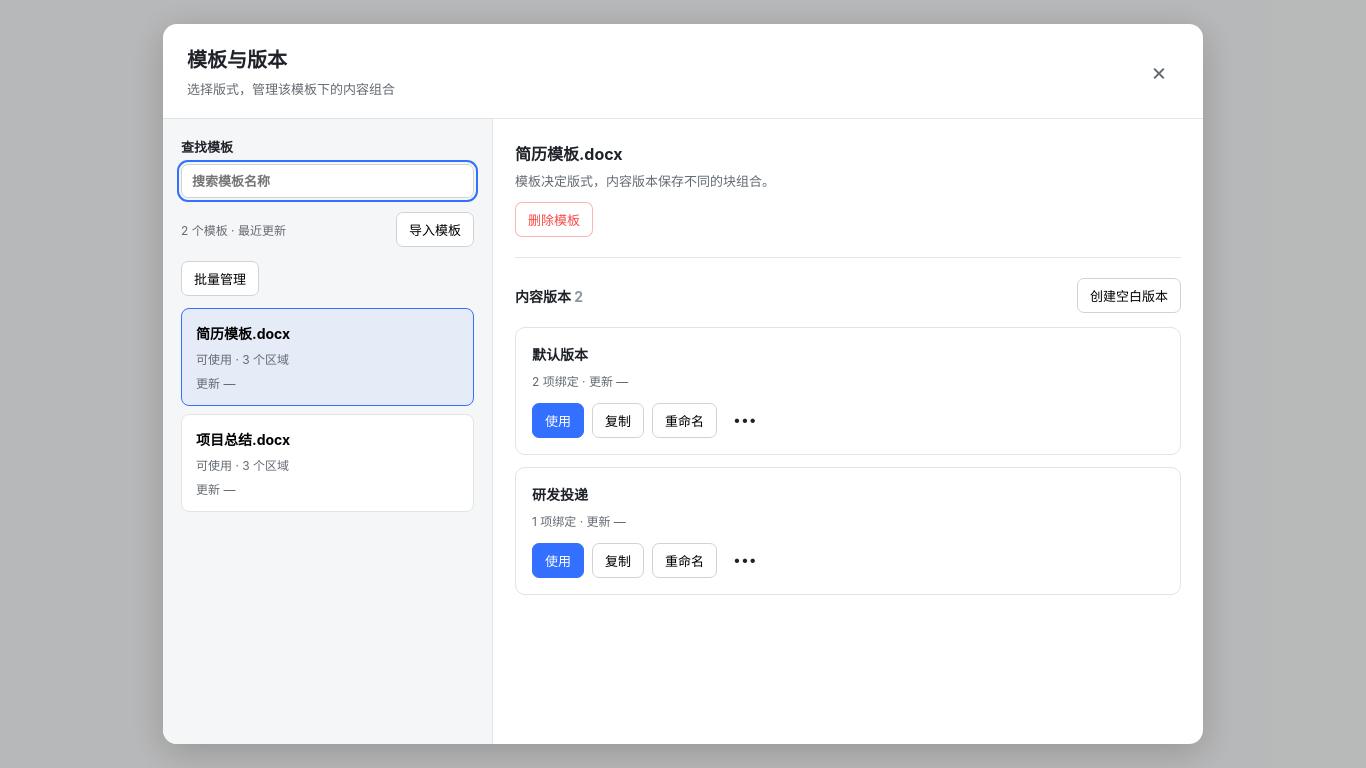
Test case: 模板与版本管理 › 创建失败保留输入并内联反馈，不误报成功
Click the button "创建空白版本".
click(1129, 296)  # box 1077,278 -> 1181,313
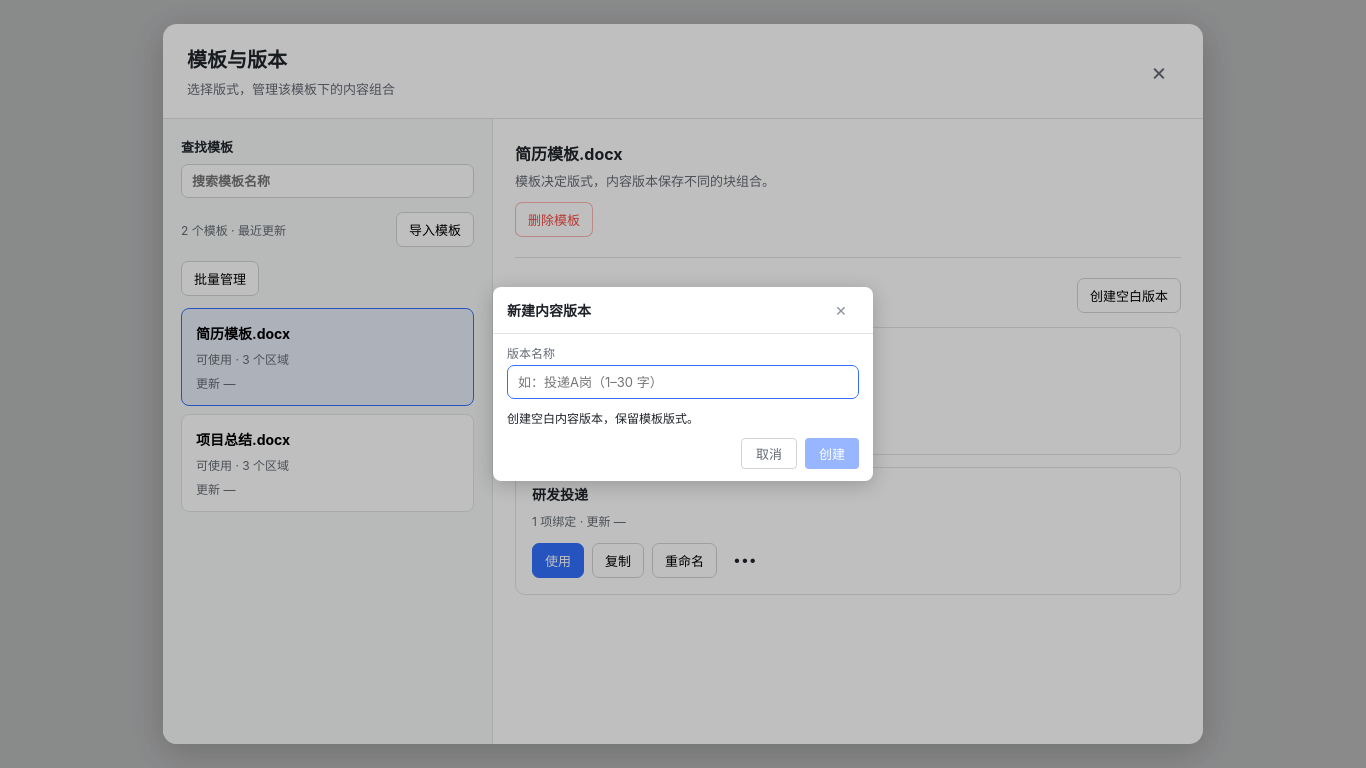
Type "默认版本" into the field with test id "version-name-input".
click(683, 382); type("默认版本")  # box 507,365 -> 859,399
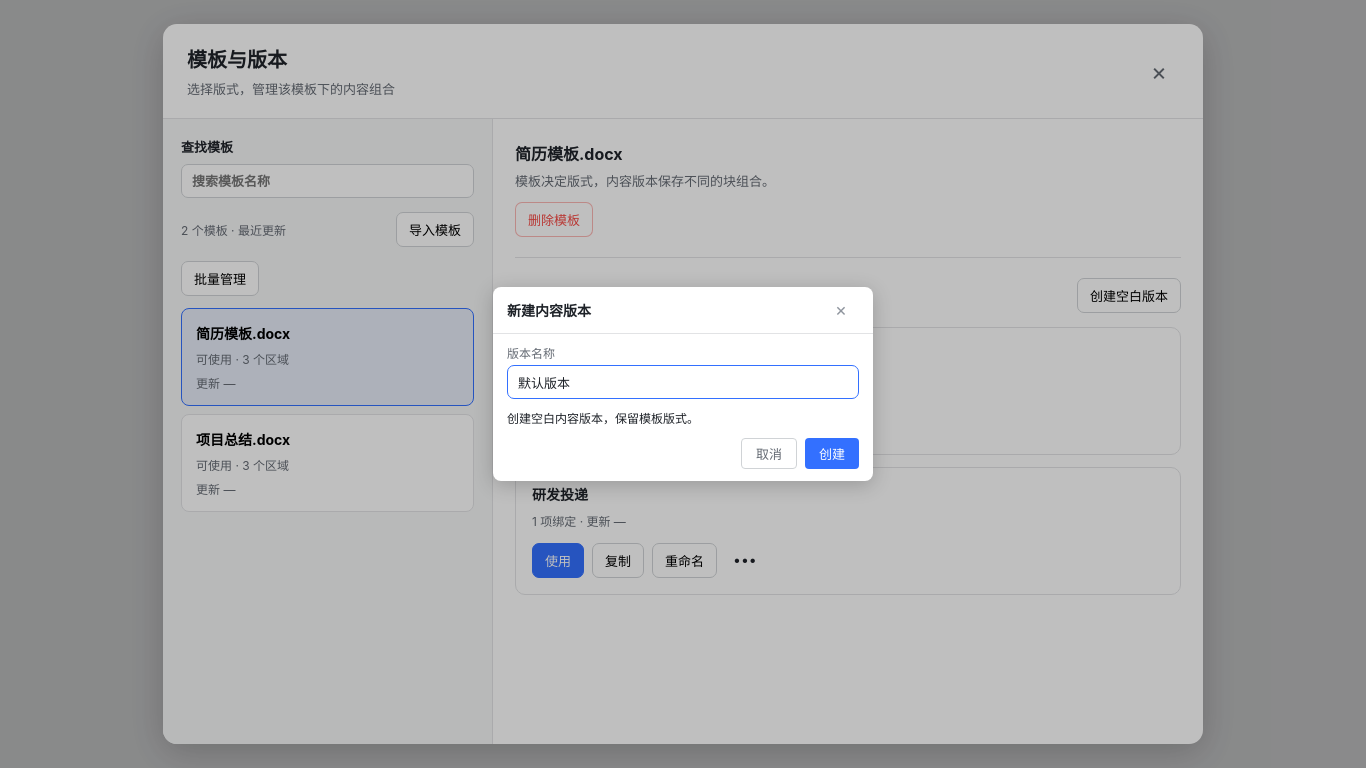
Submit the form, box 493,287 -> 873,481
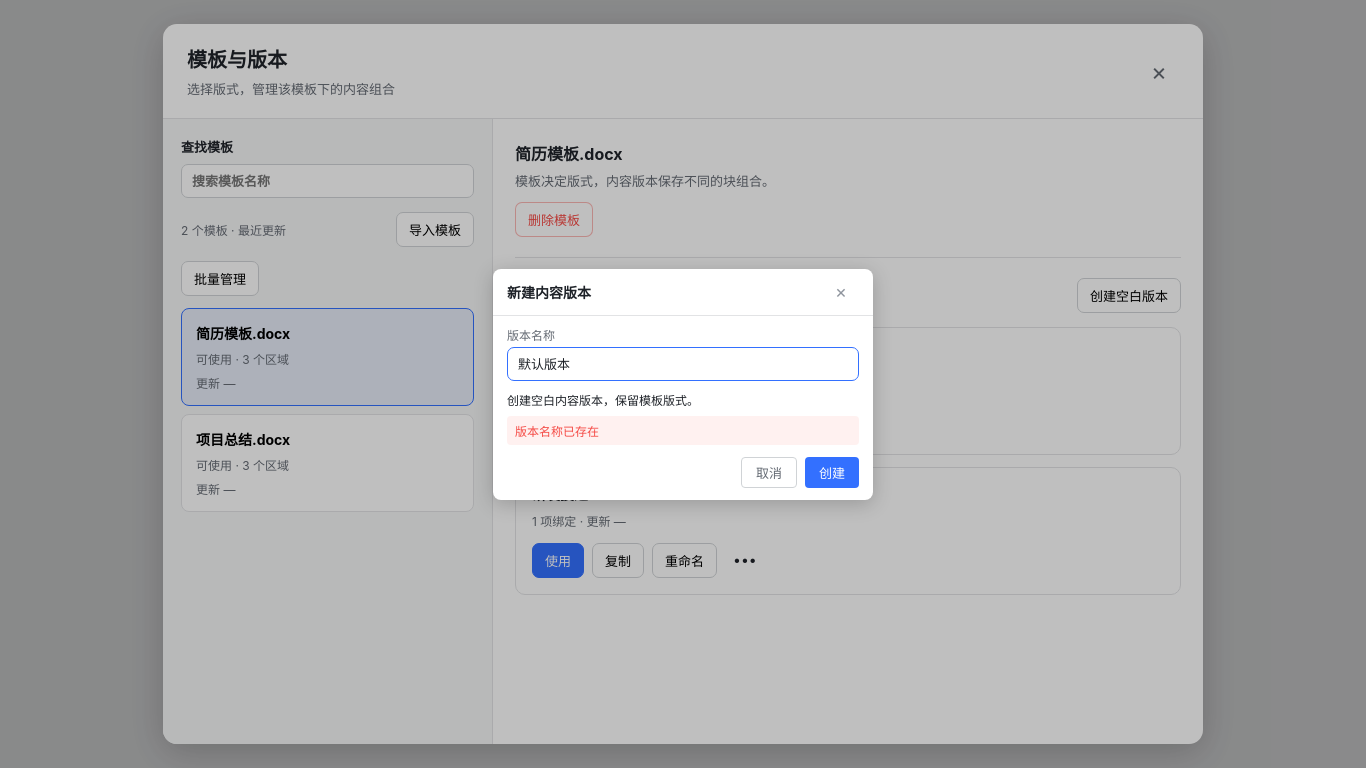
Expected: the message with test id "version-error" reads "版本名称已存在", 515,424 -> 599,438
